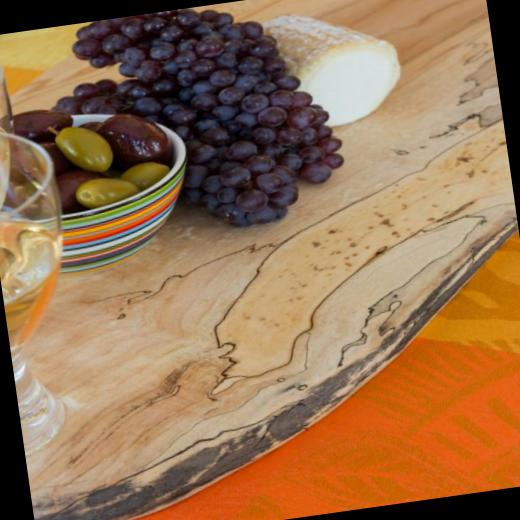Orange: (45, 0, 354, 249), (10, 91, 177, 219)
